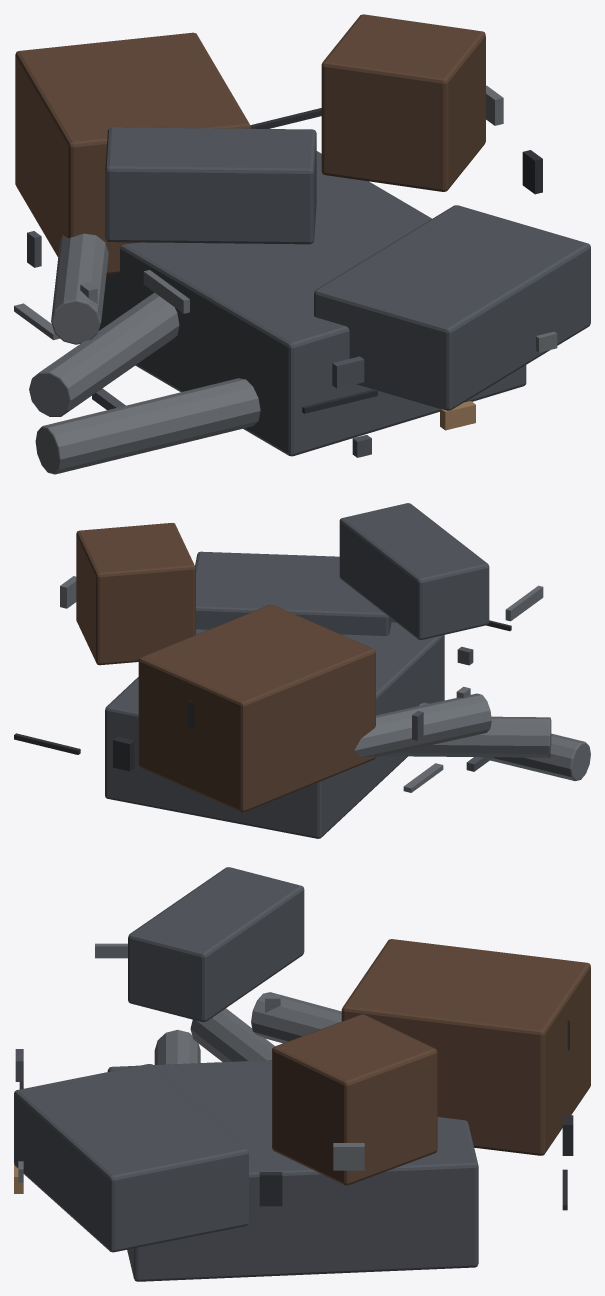
The model's file is prop_debris.fbx.
3 views of the same model, one above another, from view 1: azimuth 30°, elevation 25°; view 2: azimuth 150°, elevation 25°; view 3: azimuth 270°, elevation 25° (orthographic). The views are drawn at different scales.
Visible parts, largest first — view 1: SM_Prop_Debris; view 2: SM_Prop_Debris; view 3: SM_Prop_Debris.
Boxes of the visible parts, <box> form: SM_Prop_Debris: <box>14,14,590,474</box>; SM_Prop_Debris: <box>14,503,590,838</box>; SM_Prop_Debris: <box>14,867,590,1281</box>.
Size of what is drawn, in the model's own units: 149 by 72 by 150.
